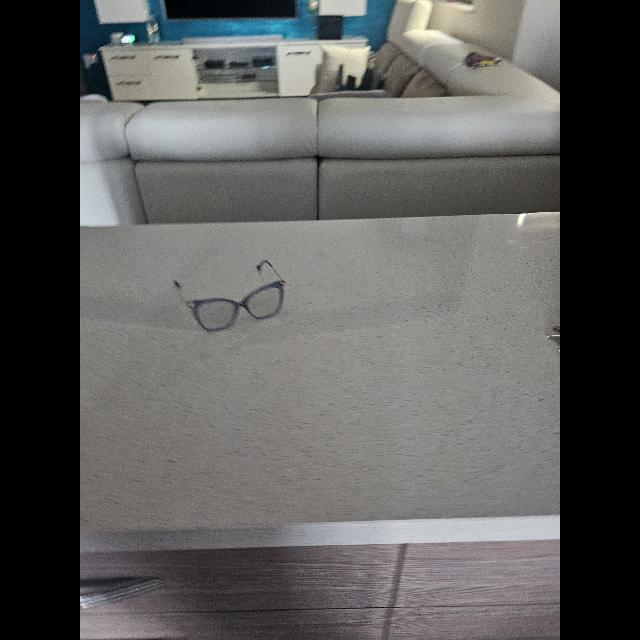glasses: (174, 260, 286, 332)
